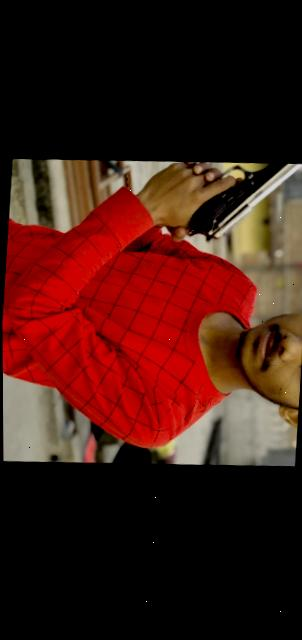pistol: (171, 165, 302, 249)
